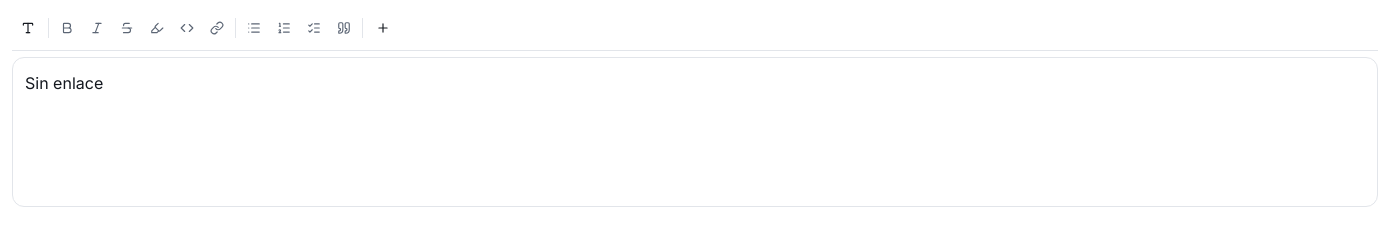
TaskDescriptionEditor (bloque 7) › sin un enlace en el cursor, el menú contextual no ofrece "Abrir enlace" (abrir-un-enlace-de-la-descripcion)
Right-click the element with test id "task-description-editor": (695, 132) [12,57,1377,207]
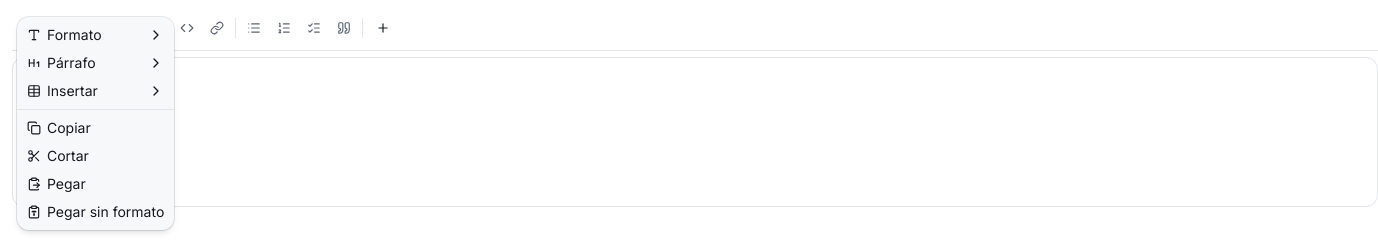
Expected: the menu is shown, [17,17,174,230]
